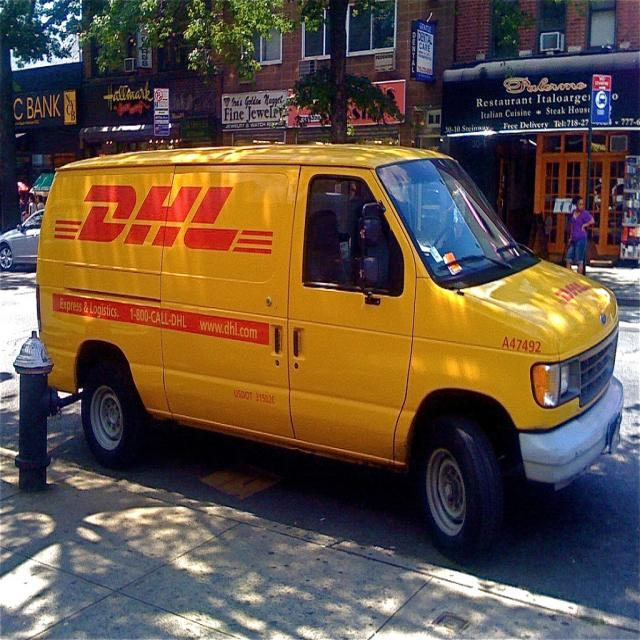dhl: (50, 180, 280, 263), (554, 279, 595, 309)
